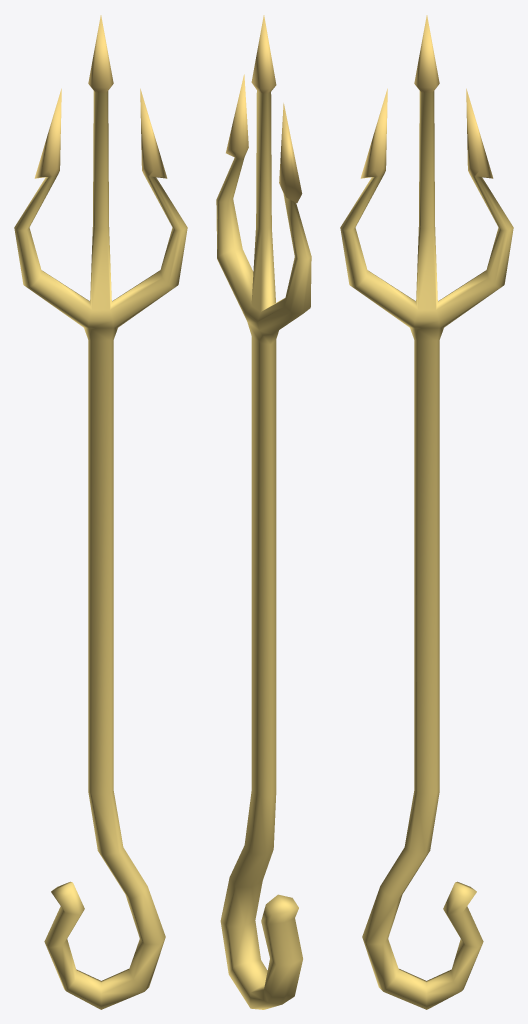
File: Realest Trident.fbx
3 renders of one model, left to right at view 1: azimuth 90°, elevation 25°; view 2: azimuth 210°, elevation 25°; view 3: azimuth 270°, elevation 25°, orthographic.
Visible parts, largest first — view 1: Cube; view 2: Cube; view 3: Cube.
Boxes of the visible parts, x1,y1,x2,y2 form: Cube: [14, 15, 187, 1009]; Cube: [216, 15, 311, 1009]; Cube: [340, 15, 513, 1009].
Bounding box in the file's own units: 7.56 × 270 × 42.66.
